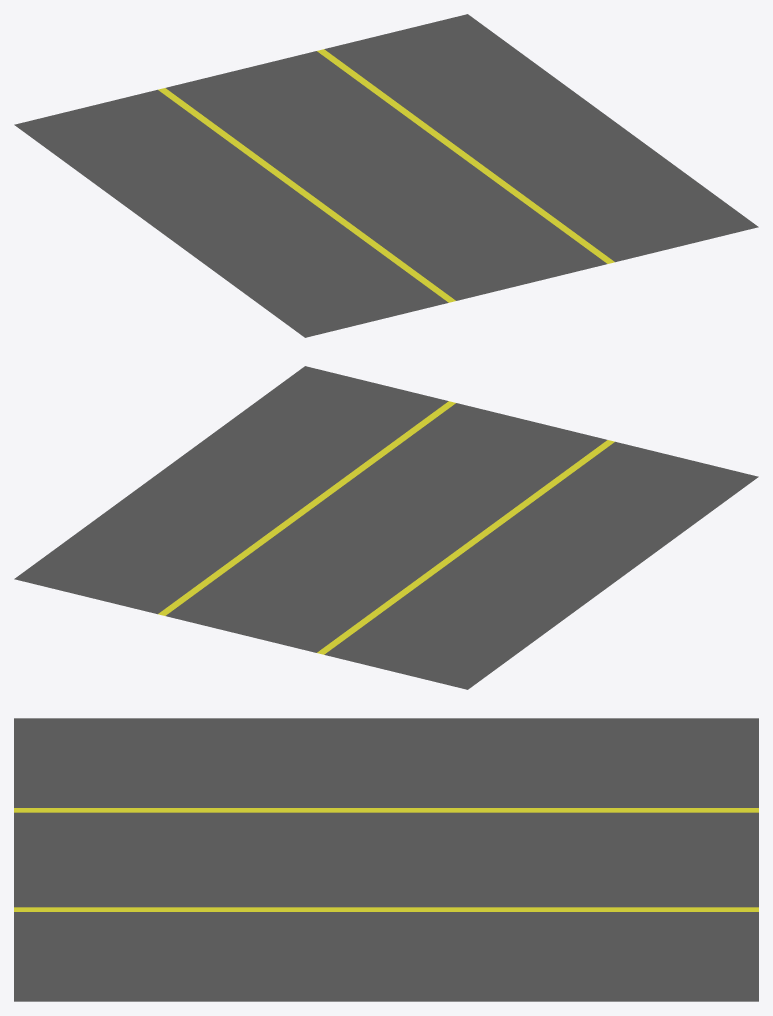
Rendered from road.fbx.
The picture shows the model from 3 angles, top to bottom: view 1: azimuth 30°, elevation 25°; view 2: azimuth 150°, elevation 25°; view 3: azimuth 270°, elevation 25°; orthographic projection. The views are drawn at different scales.
Parts seen in each view (by area): view 1: road; view 2: road; view 3: road.
Boxes of the visible parts, x1,y1,x2,y2 form: road: (14,14,758,337); road: (14,366,758,689); road: (14,718,758,1001).
Size of the model in its own units: 900 by 0 by 1000.
